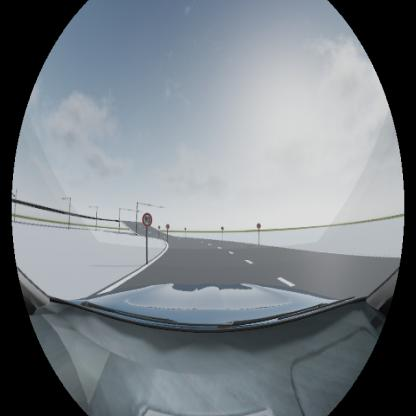Speed Limit 90: (142, 212, 152, 227)
